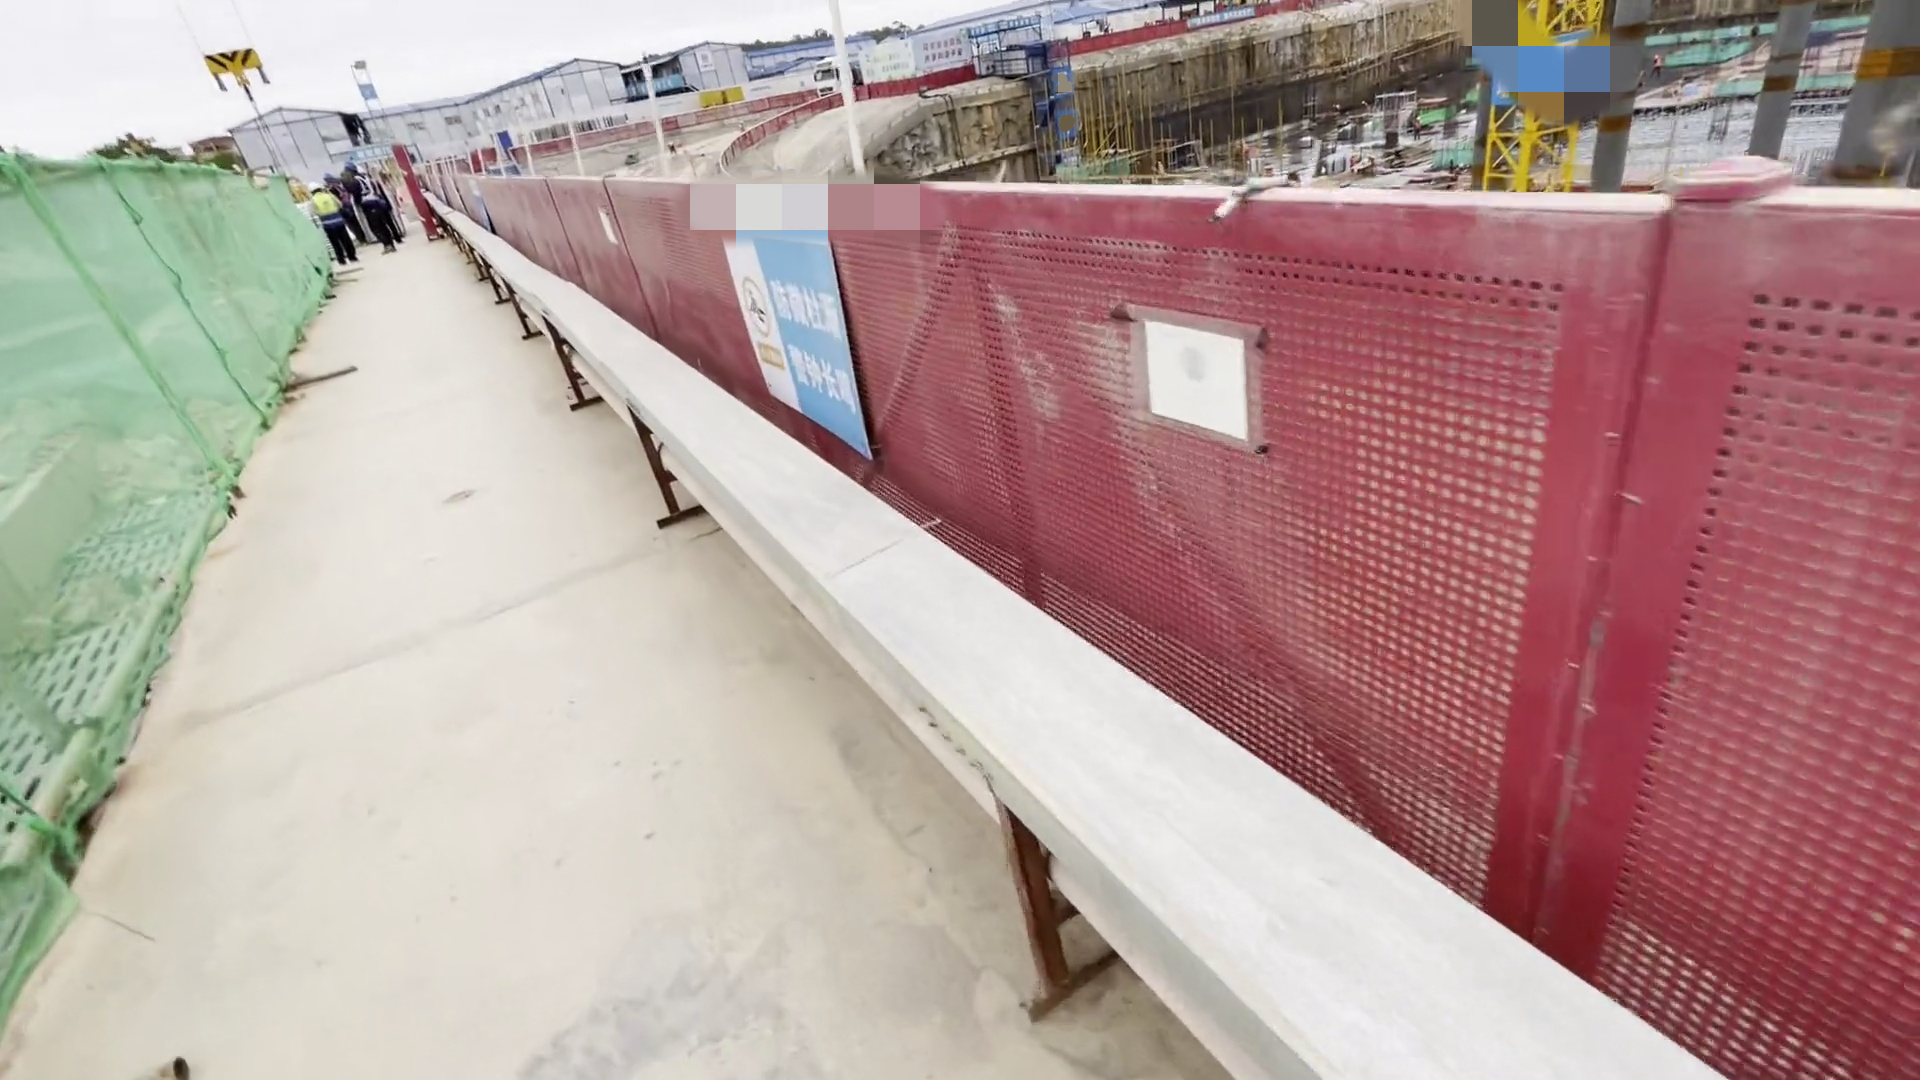fence: (456, 174, 1843, 908)
helmet: (352, 161, 376, 178), (305, 179, 324, 192)
hook: (179, 38, 303, 108)
person: (345, 153, 413, 263), (296, 166, 356, 272)
slogan: (711, 225, 885, 471), (859, 22, 1024, 124), (631, 30, 753, 128)
vest: (313, 192, 344, 226), (353, 176, 378, 202)
